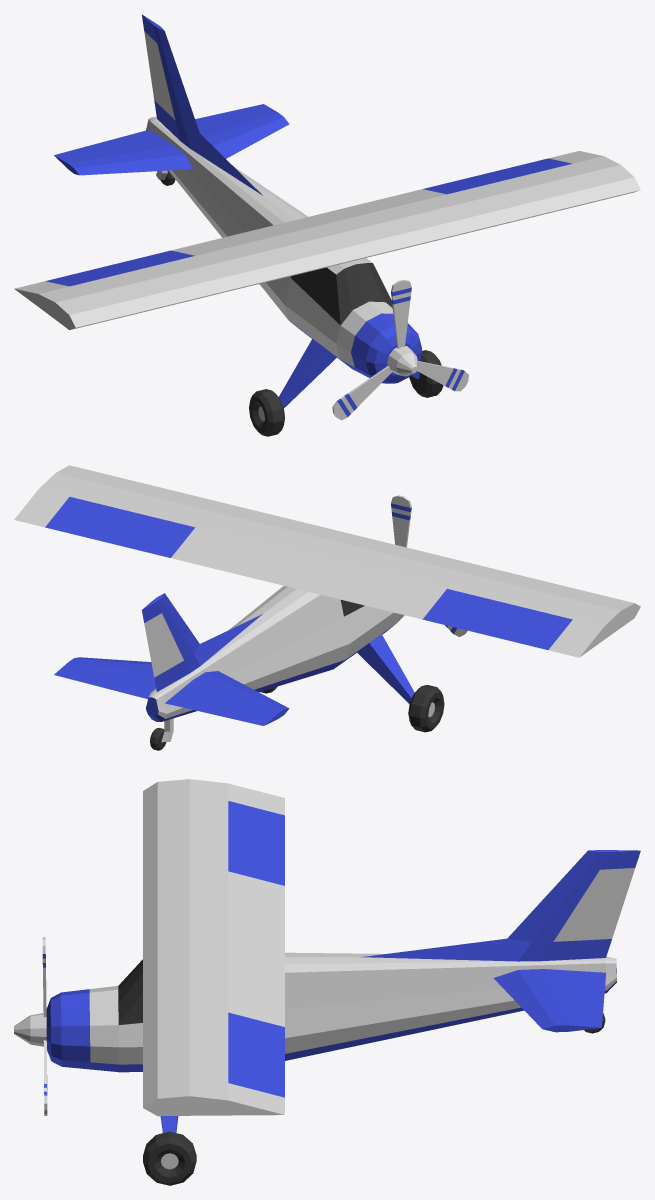
The model's file is airplane.glb.
3 renders of one model, top to bottom at view 1: azimuth 30°, elevation 25°; view 2: azimuth 150°, elevation 25°; view 3: azimuth 270°, elevation 25°, orthographic. The views are drawn at different scales.
Parts seen in each view (by area): view 1: Plane.035, Plane, Circle.002, Circle.001, Circle.004, Circle.003, Plane.003, Plane.001, Plane.002, Circle.007; view 2: Plane.035, Plane, Circle.002, Circle.001, Circle.003, Circle.004, Plane.001; view 3: Plane.035, Plane, Circle.001, Circle.002, Circle.004, Circle.007.
Part boxes in pixels (x1,y1,x2,y2): Plane.035: (14,151,640,330); Plane: (146,117,422,383); Circle.002: (54,104,289,175); Circle.001: (142,14,262,195); Circle.004: (249,350,443,436); Circle.003: (279,339,419,407); Plane.003: (332,366,392,420); Plane.001: (391,279,411,348); Plane.002: (417,361,468,391); Circle.007: (387,346,418,376); Plane.035: (14,465,640,657); Plane: (146,586,404,721); Circle.002: (54,657,289,725); Circle.001: (142,593,262,691); Circle.003: (357,634,414,703); Circle.004: (260,685,444,732); Plane.001: (391,495,411,547); Plane.035: (143,779,284,1116); Plane: (46,952,616,1072); Circle.001: (361,850,640,961); Circle.002: (493,969,605,1032); Circle.004: (143,1131,196,1185); Circle.007: (14,1013,46,1046).
Size of the model in its own units: 8.24 by 3.49 by 6.89.
